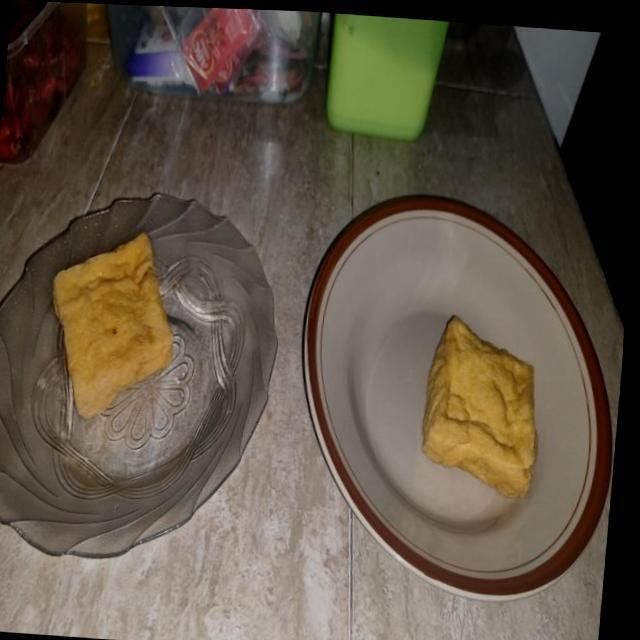tahu_goreng: (52, 232, 172, 418), (422, 315, 537, 496)
